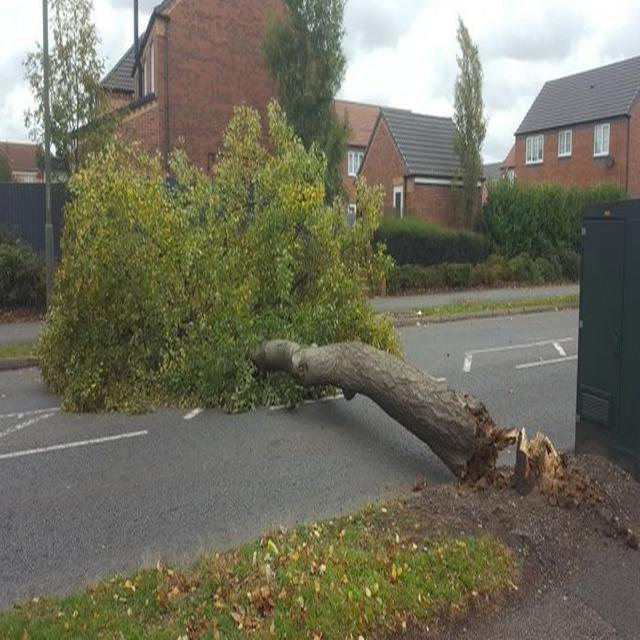fallen_object: (57, 114, 569, 516)
